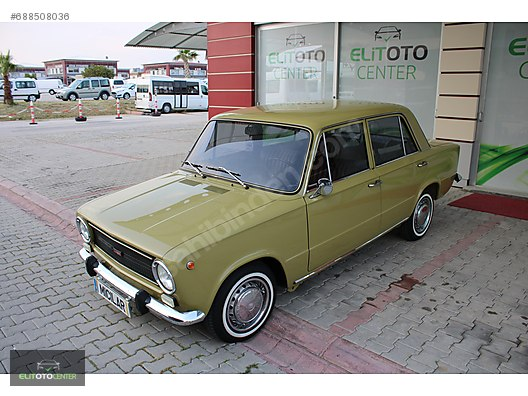murat: (73, 95, 449, 343)
